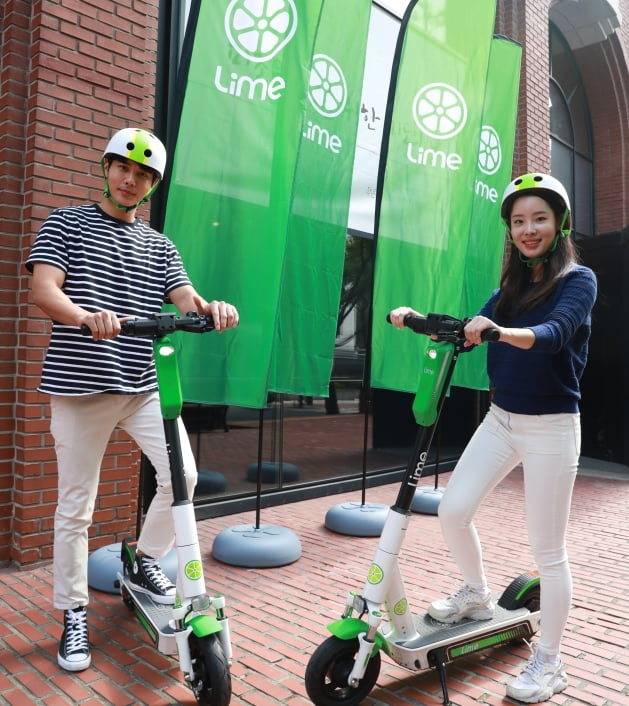scooter: (296, 304, 548, 706), (77, 309, 249, 706)
